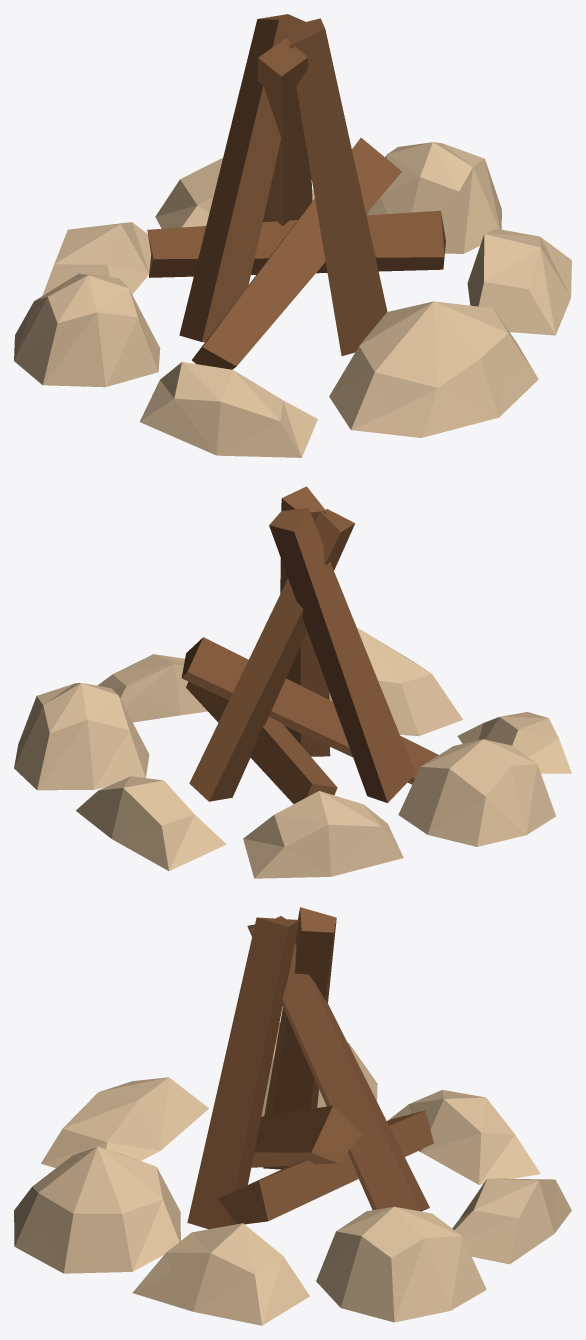
The model's file is survival_fireplace-nofire.fbx.
3 views of the same model, one above another, from view 1: azimuth 30°, elevation 25°; view 2: azimuth 150°, elevation 25°; view 3: azimuth 270°, elevation 25° (orthographic). The views are drawn at different scales.
Visible parts, largest first — view 1: survival_fireplace_nofire; view 2: survival_fireplace_nofire; view 3: survival_fireplace_nofire.
Boxes of the visible parts, <box> form: survival_fireplace_nofire: <box>14,14,571,457</box>; survival_fireplace_nofire: <box>14,486,571,878</box>; survival_fireplace_nofire: <box>14,907,571,1325</box>.
Bounding box in the file's own units: 200 × 114 × 187.
